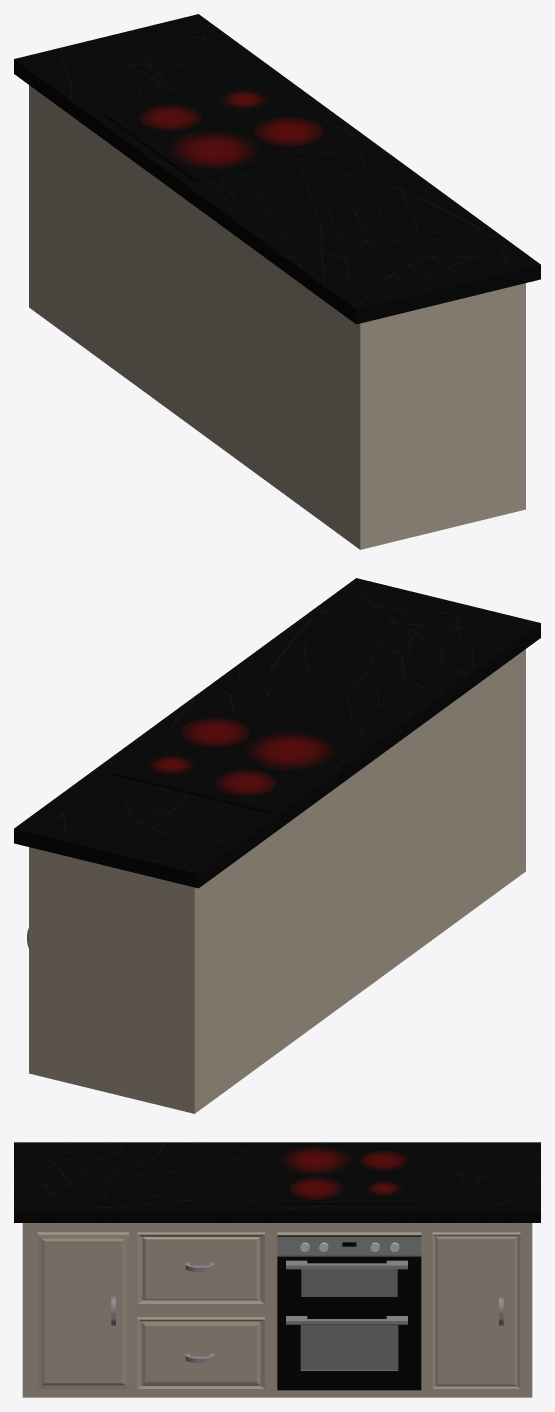
The model's file is counter.fbx.
3 views of the same model, one above another, from view 1: azimuth 30°, elevation 25°; view 2: azimuth 150°, elevation 25°; view 3: azimuth 270°, elevation 25° (orthographic). The views are drawn at different scales.
Parts seen in each view (by area): view 1: Counter; view 2: Counter; view 3: Counter.
Boxes of the visible parts, x1,y1,x2,y2 form: Counter: (14,14,540,549); Counter: (14,578,540,1113); Counter: (14,1142,540,1397).
Bounding box in the file's own units: 501 × 603 × 1502.
Materials: 9 (2 with a texture image).
